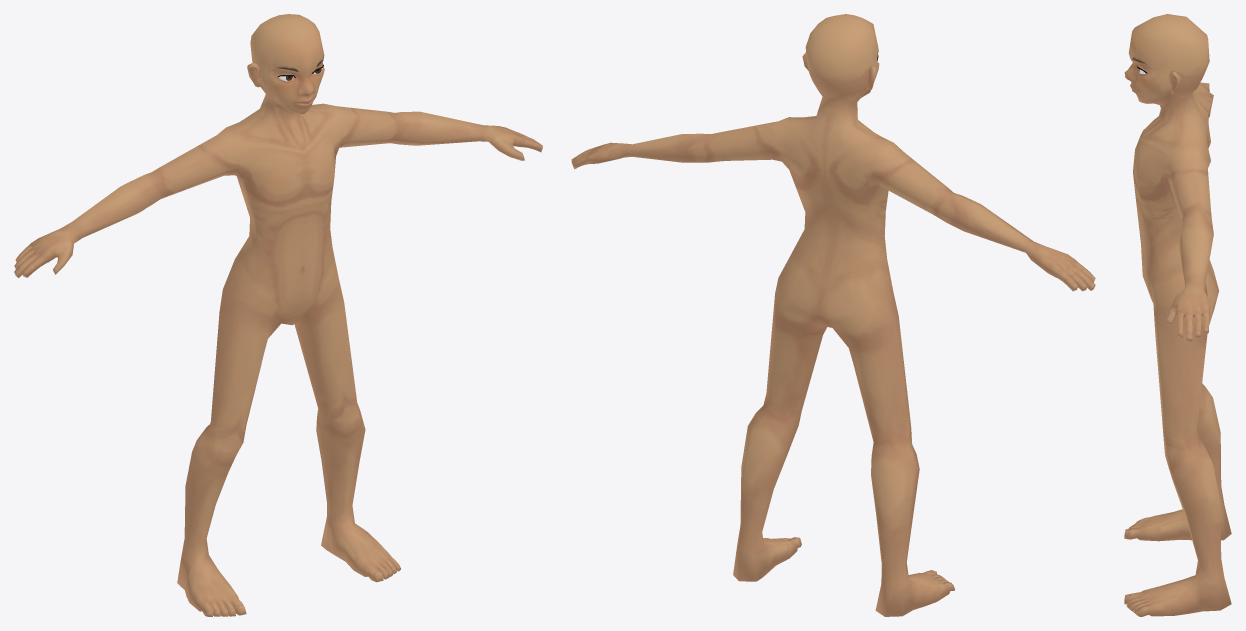
The model's file is body2.glb.
The picture shows the model from 3 angles, left to right: view 1: azimuth 30°, elevation 25°; view 2: azimuth 150°, elevation 25°; view 3: azimuth 270°, elevation 25°; orthographic projection. The views are drawn at different scales.
Parts seen in each view (by area): view 1: BaseBody; view 2: BaseBody; view 3: BaseBody.
Boxes of the visible parts, x1,y1,x2,y2 form: BaseBody: (14,14,542,616); BaseBody: (571,14,1095,616); BaseBody: (1124,14,1231,616).
Size of the model in its own units: 166 by 170 by 30.11.
1 material, 1 textured.
